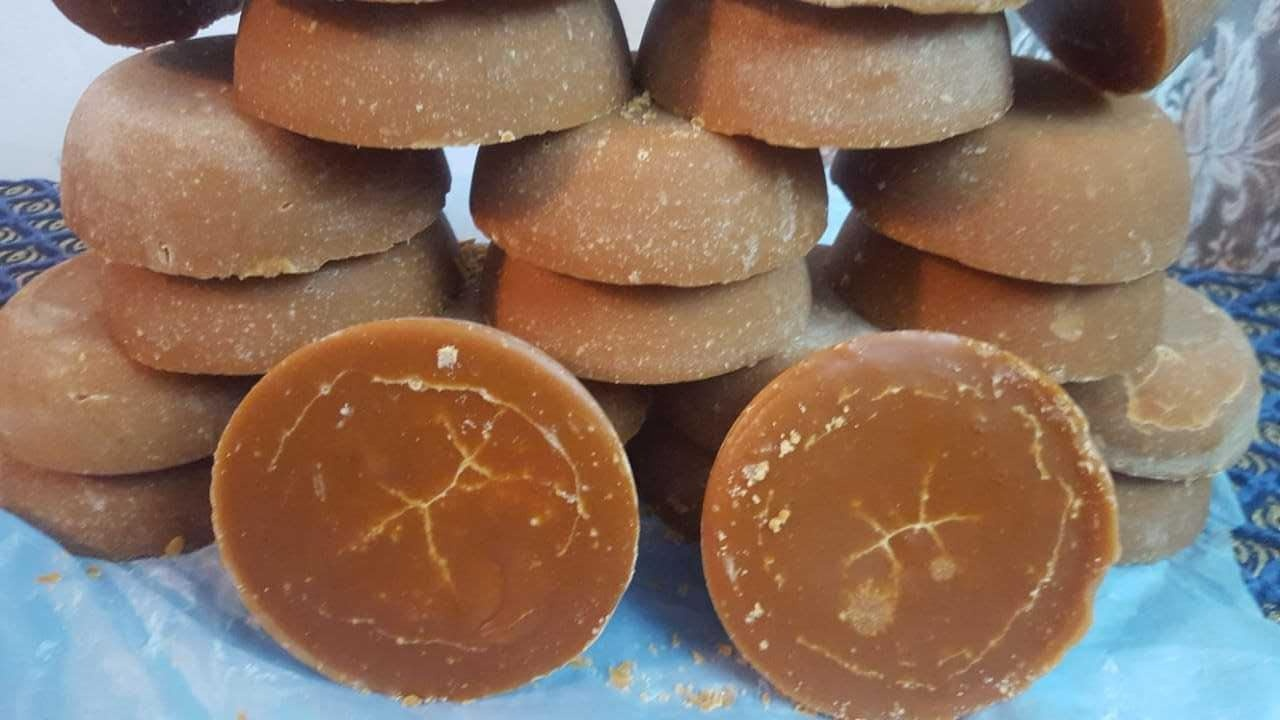hakuru: (206, 317, 644, 703), (697, 327, 1124, 720), (46, 39, 457, 281), (841, 69, 1193, 286), (473, 85, 830, 286)
